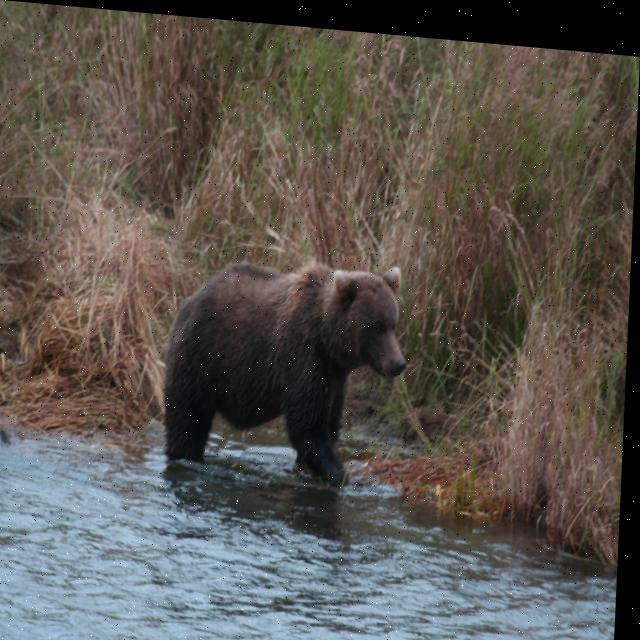bear face: (169, 240, 416, 459)
